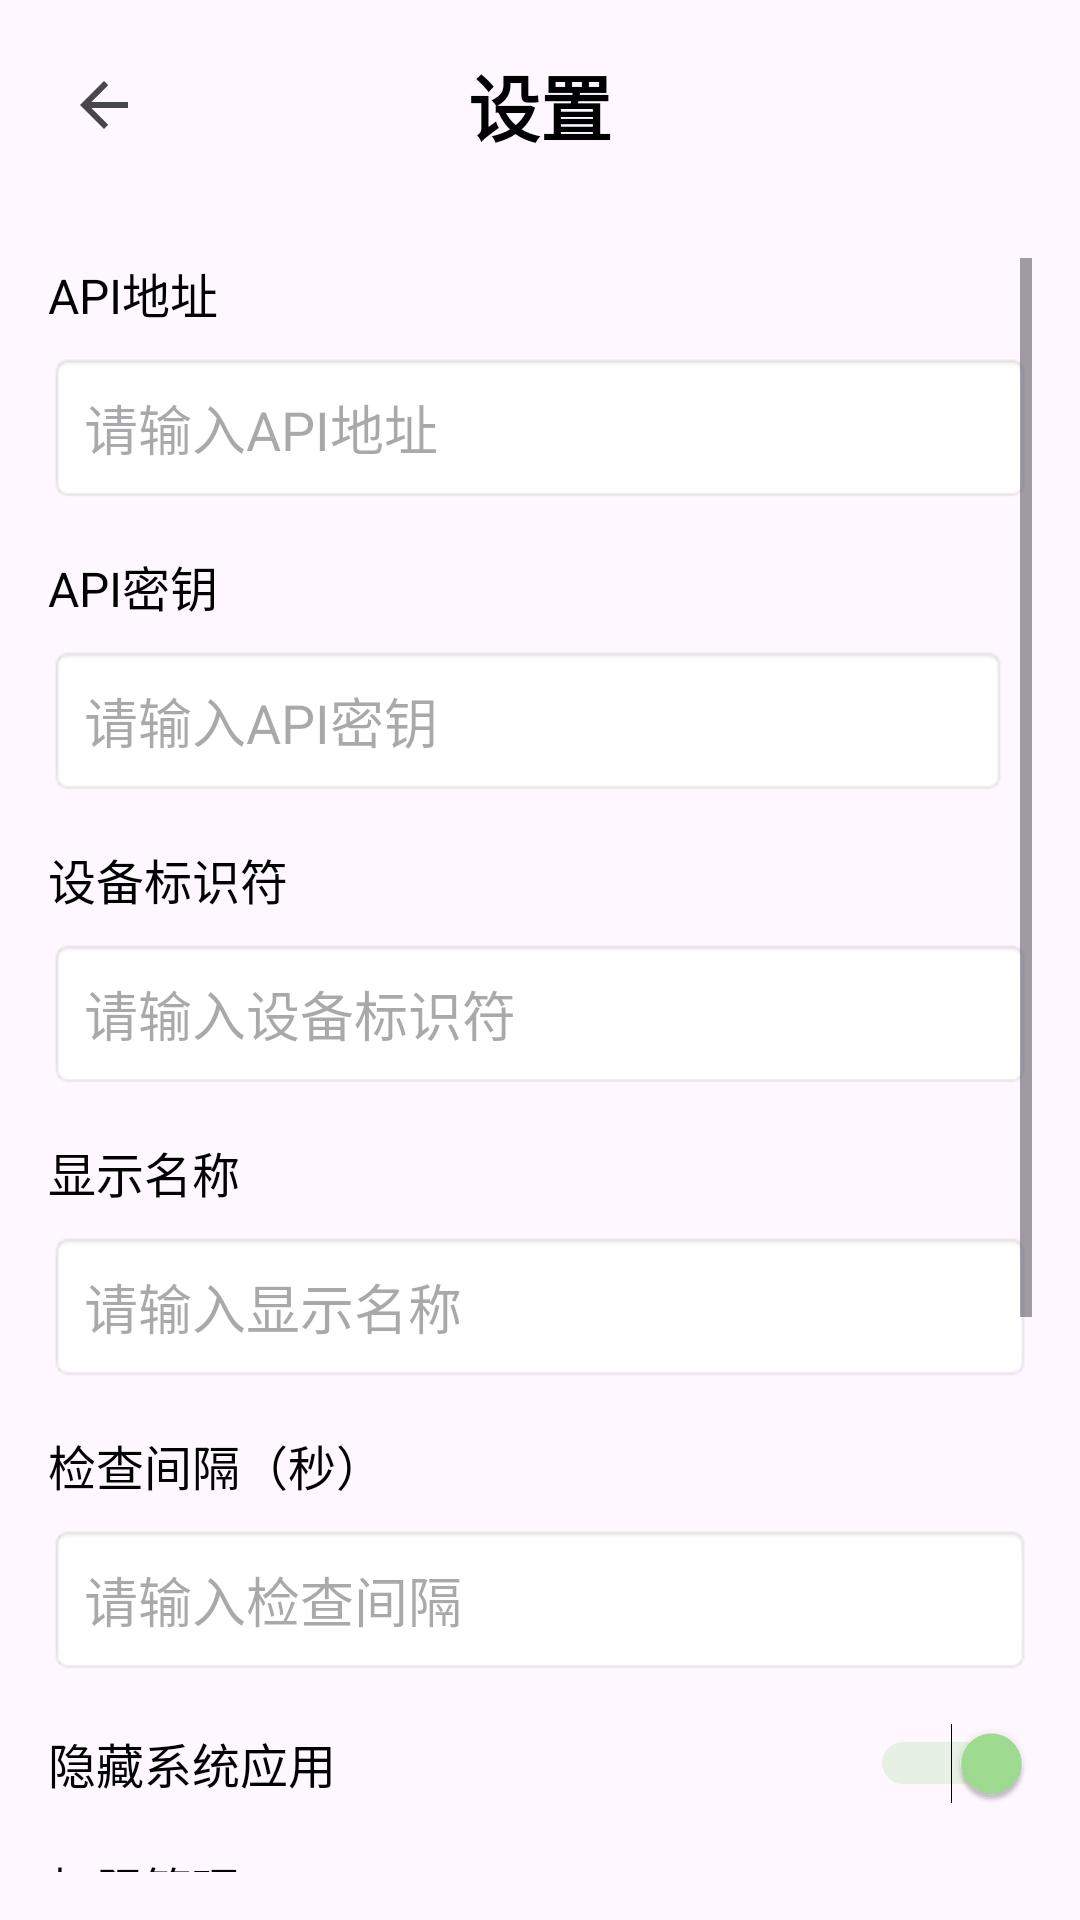

Screen size 1080px x 1920px. Icon name, then its box in pixels as (x1, y1, x2, y2):
返回: (80, 81, 128, 129)
